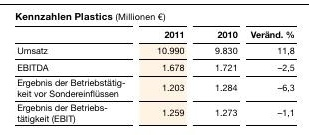table: (0, 0, 309, 135)
